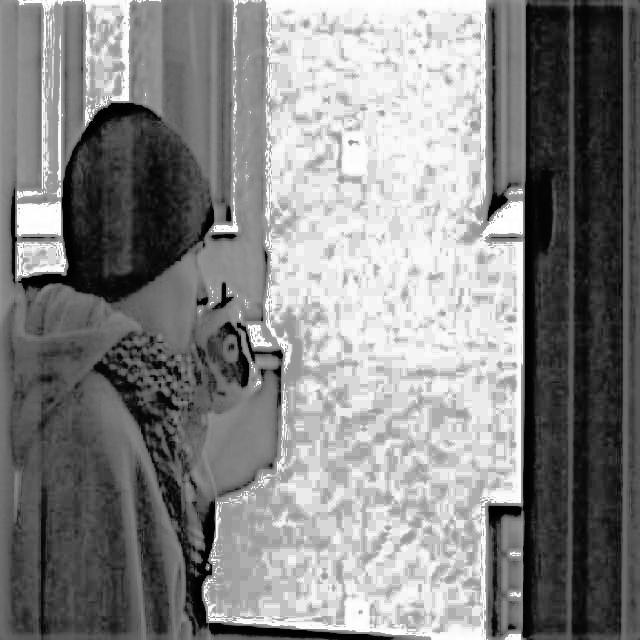Person: (10, 95, 215, 640)
